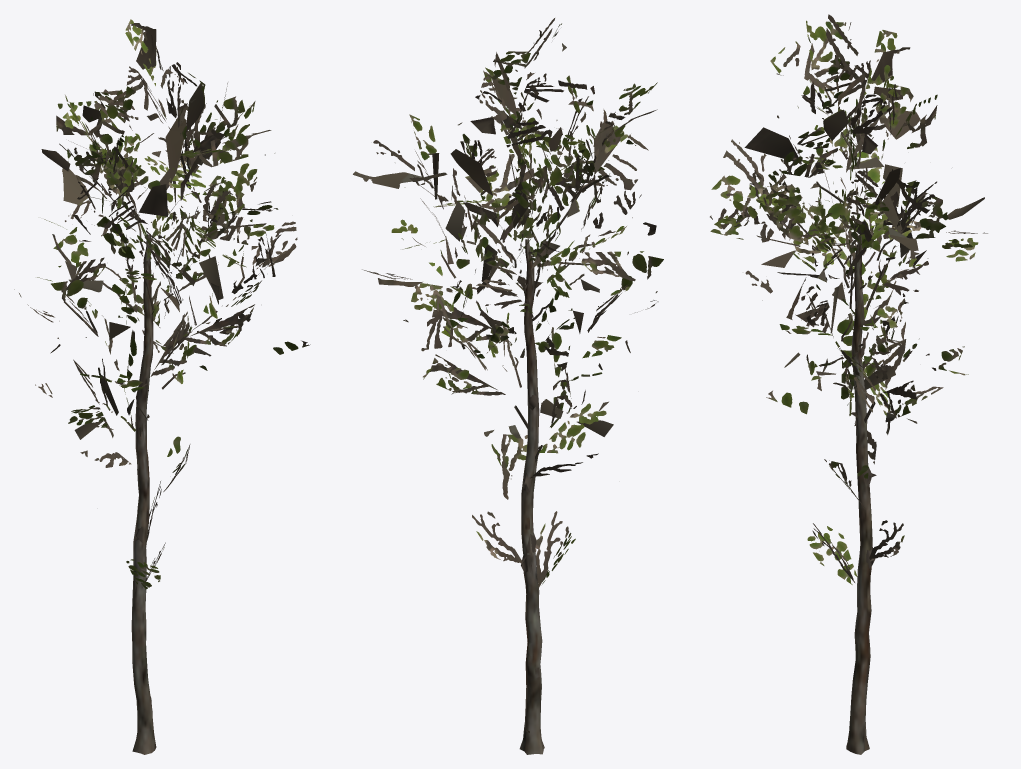
The model's file is SM_BlackAlder_Forest_08_PP_LOD3.gltf.
3 views of the same model, side by side, from view 1: azimuth 30°, elevation 25°; view 2: azimuth 150°, elevation 25°; view 3: azimuth 270°, elevation 25° (orthographic).
Visible parts, largest first — view 1: SM_BlackAlder_Forest_08_PP; view 2: SM_BlackAlder_Forest_08_PP; view 3: SM_BlackAlder_Forest_08_PP.
Boxes of the visible parts, <box> form: SM_BlackAlder_Forest_08_PP: <box>14,19,310,754</box>; SM_BlackAlder_Forest_08_PP: <box>353,18,663,754</box>; SM_BlackAlder_Forest_08_PP: <box>710,14,987,754</box>.
Bounding box in the file's own units: 3.08 × 7.36 × 2.81.
Materials: 3 (3 with a texture image).
